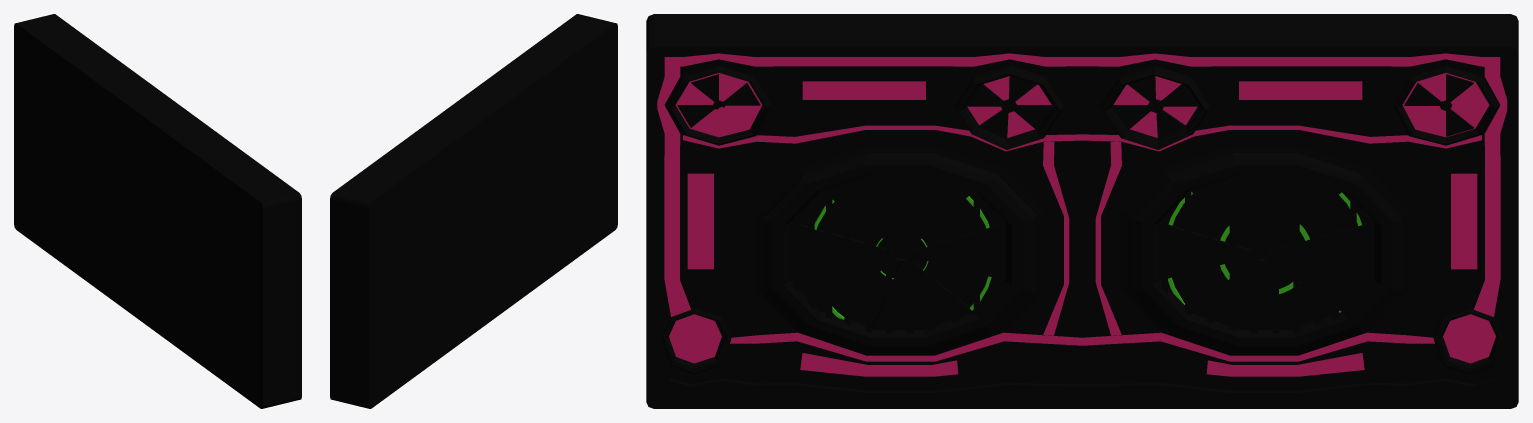
Rendered from SoundWall.fbx.
3 views of the same model, side by side, from view 1: azimuth 30°, elevation 25°; view 2: azimuth 150°, elevation 25°; view 3: azimuth 270°, elevation 25° (orthographic). The views are drawn at different scales.
Parts seen in each view (by area): view 1: Cube; view 2: Cube; view 3: Cube, Cube.012, Cube.001.
Boxes of the visible parts, bbox=[...] form: Cube: bbox=[14, 14, 301, 408]; Cube: bbox=[330, 14, 617, 408]; Cube: bbox=[646, 14, 1518, 408]; Cube.012: bbox=[657, 53, 1507, 376]; Cube.001: bbox=[792, 173, 1372, 332].
Size of the model in its own units: 287 by 1247 by 2726.
